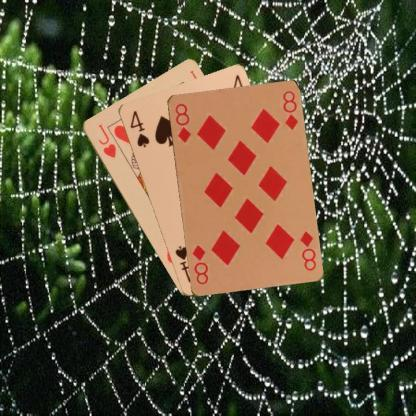4s: (127, 108, 151, 148)
8d: (172, 100, 192, 144), (297, 228, 317, 272)
Jh: (96, 122, 118, 160)
